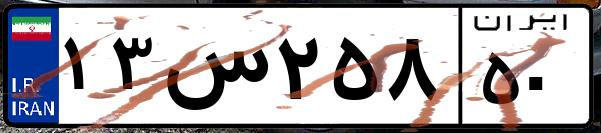0: (525, 38, 570, 115)
1: (57, 26, 110, 100)
2: (270, 28, 330, 110)
3: (110, 28, 158, 98)
5: (330, 28, 385, 110), (475, 38, 525, 113)
8: (385, 28, 445, 110)
س: (158, 20, 270, 120)
